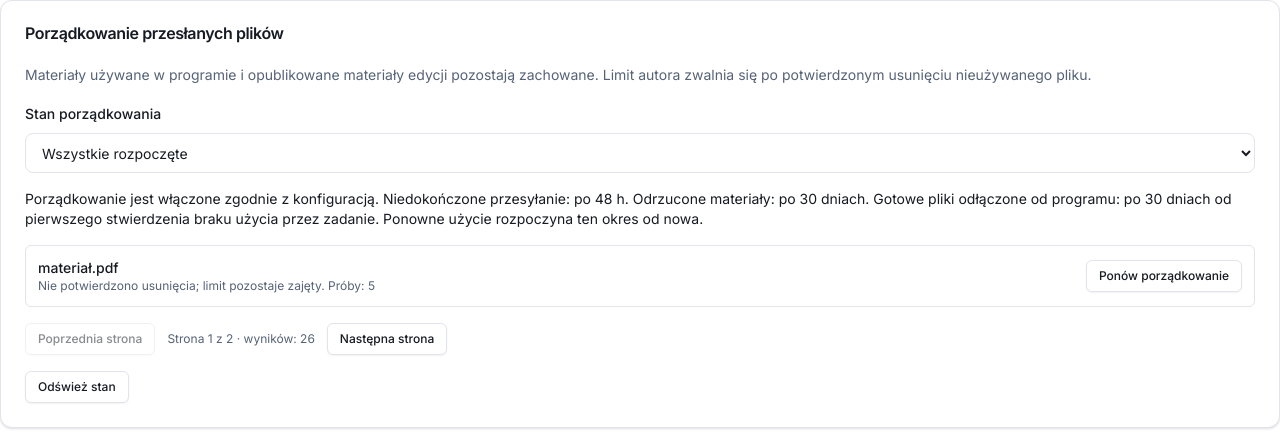
Test: cleanup queue interaction › returns to the last valid page when retry removes its final item
Expected: the text "materiał.pdf" is shown, left=38, top=259, right=119, bottom=276
What coordinates should you click on to do the following:
click the button "Następna strona"
I would click on:
 (387, 339)
Its box is left=327, top=323, right=447, bottom=355.
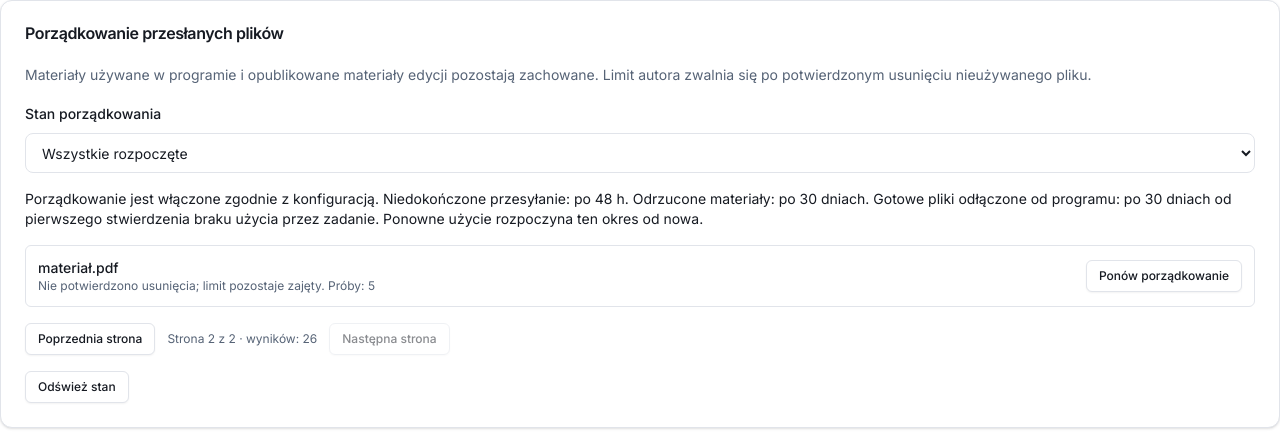
Expected: the text "Strona 2 z 2 · wyników: 26" is shown, left=167, top=331, right=317, bottom=347
What coordinates should you click on to do the following:
click the button "Ponów porządkowanie"
I would click on:
 (1164, 276)
Its box is left=1086, top=260, right=1242, bottom=292.
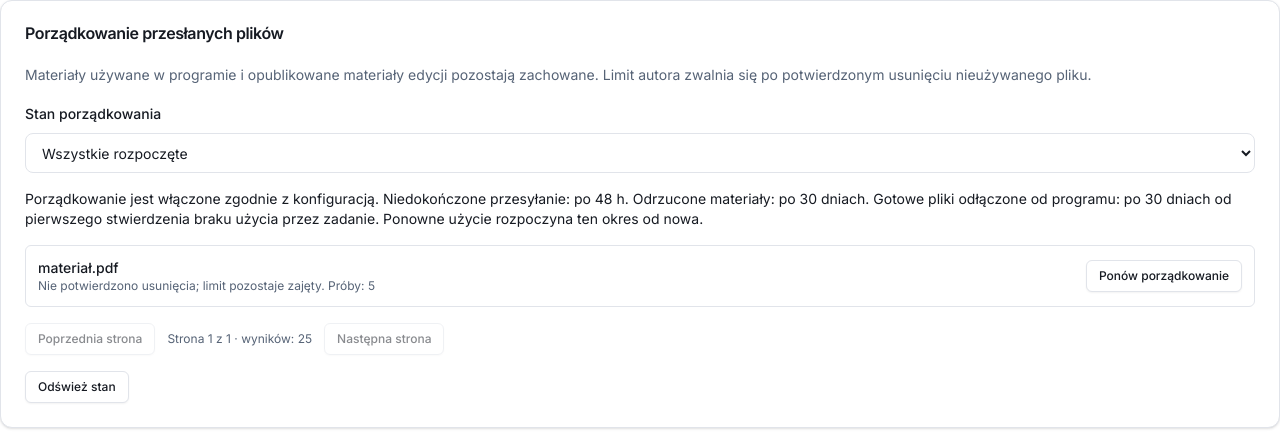
Expected: the text "Strona 1 z 1 · wyników: 25" is shown, left=167, top=331, right=312, bottom=347
